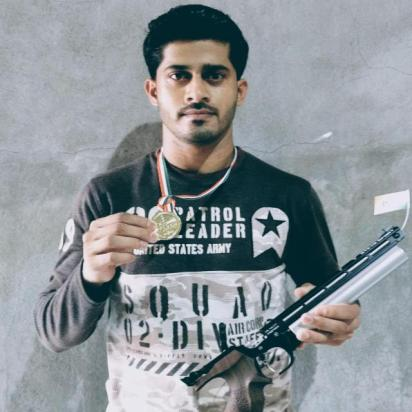Gun: (177, 221, 412, 411)
